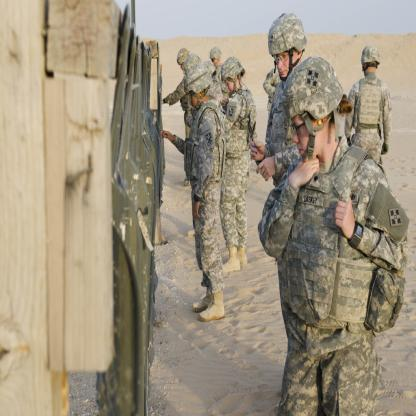Helmet: (292, 56, 347, 160), (266, 10, 304, 79), (178, 64, 212, 106), (220, 58, 245, 96), (360, 44, 380, 68), (184, 51, 202, 74), (173, 46, 189, 64), (202, 59, 216, 77), (210, 44, 221, 61)
